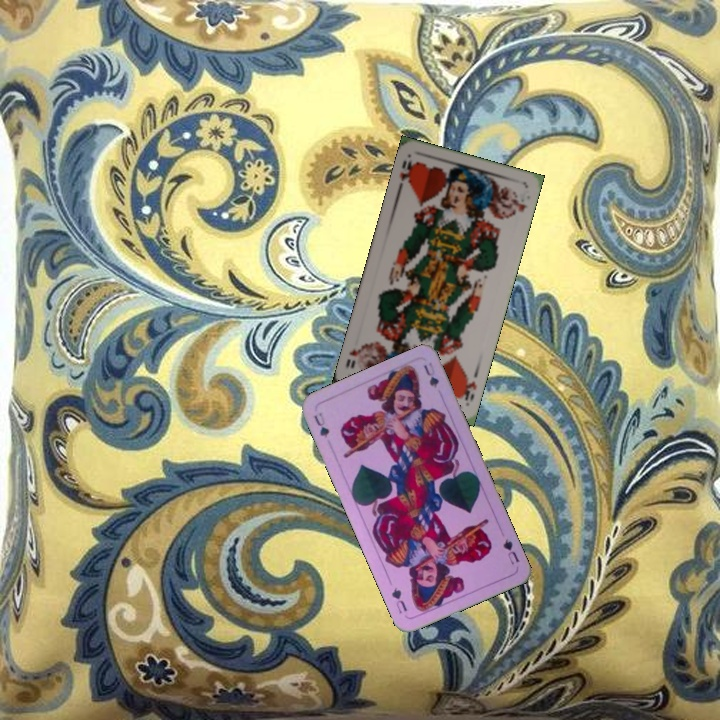GU: (499, 535, 522, 567), (310, 408, 332, 441)
HO: (394, 152, 418, 193), (457, 370, 479, 408)
